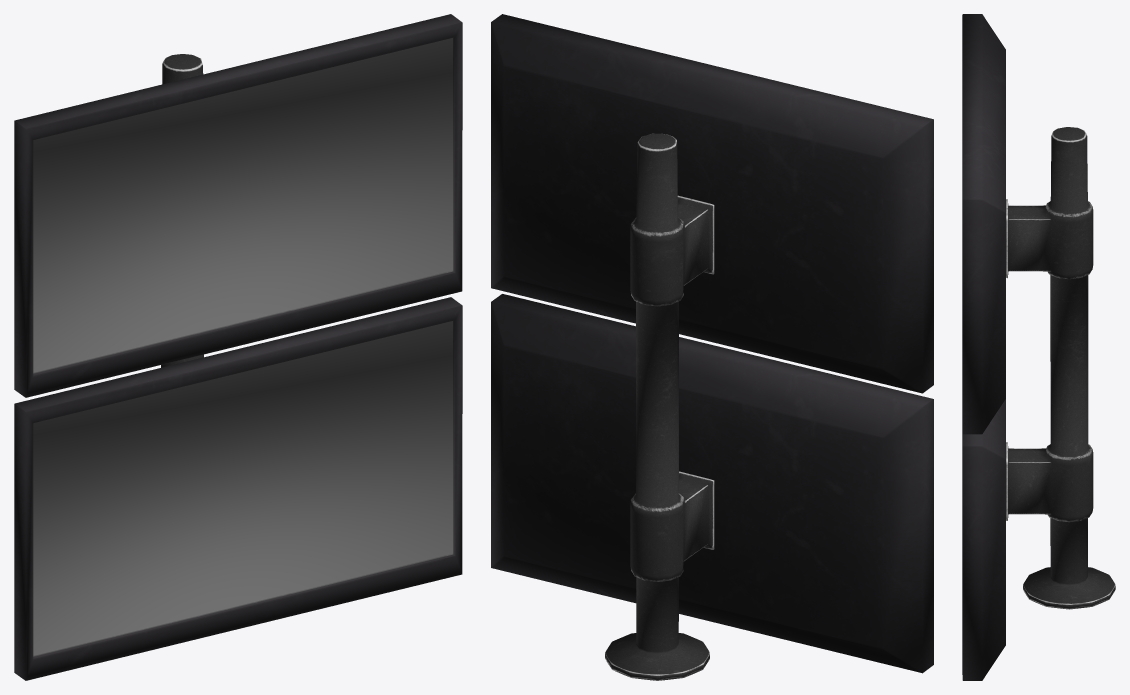
The model's file is DoubleMonitor.fbx.
3 views of the same model, side by side, from view 1: azimuth 30°, elevation 25°; view 2: azimuth 150°, elevation 25°; view 3: azimuth 270°, elevation 25° (orthographic). The views are drawn at different scales.
Visible parts, largest first — view 1: DoubleMonitor; view 2: DoubleMonitor; view 3: DoubleMonitor.
Boxes of the visible parts, x1,y1,x2,y2 form: DoubleMonitor: [14, 14, 462, 680]; DoubleMonitor: [491, 14, 933, 680]; DoubleMonitor: [962, 14, 1115, 680].
Bounding box in the file's own units: 62.68 × 76.05 × 21.87.
2 materials, 2 textured.
